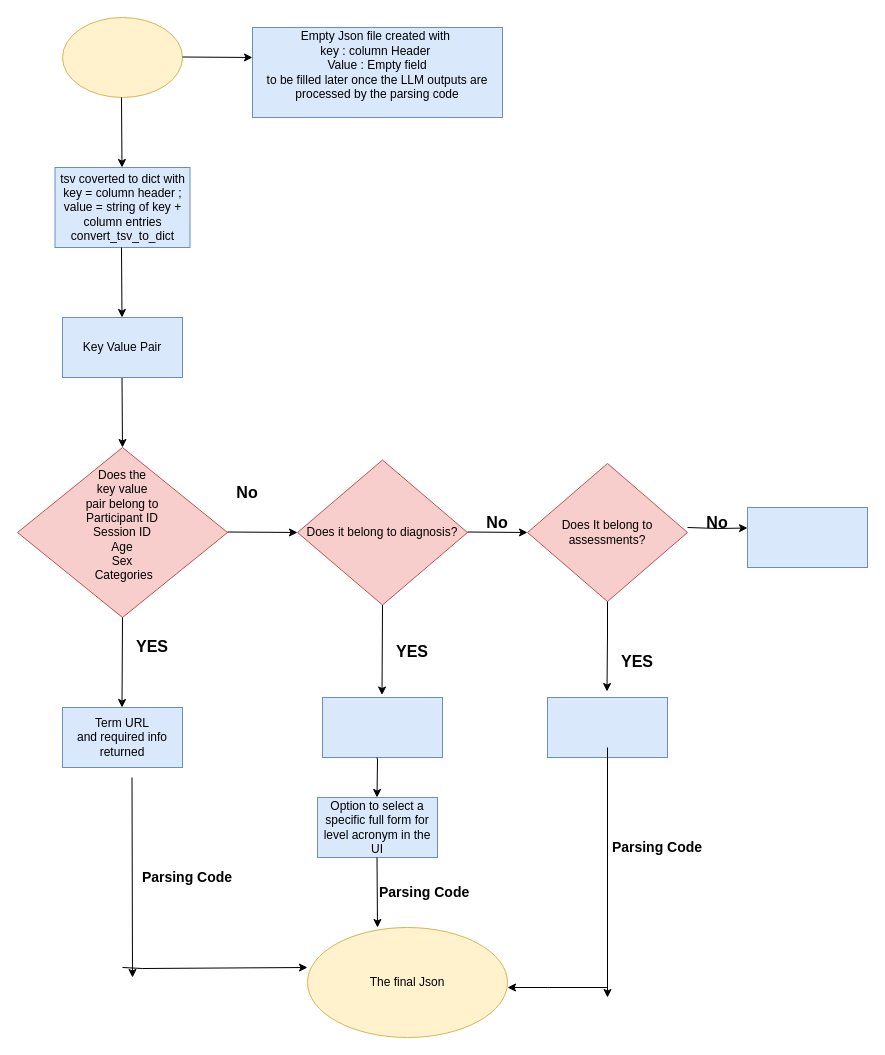
This 885x1055 diagram has some shape labels left out. Here are the shapes that lost their labels. From the top down, the centre of each, then its label:
At pixel 122 57: ".tsv file".
At pixel 807 537: "Some Message".
At pixel 382 727: "Level full forms extracted from premade dictionary".
At pixel 607 727: "Assessment descriptions extracted from premade json files".
